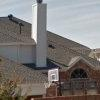Chimney: (24, 1, 55, 58)
